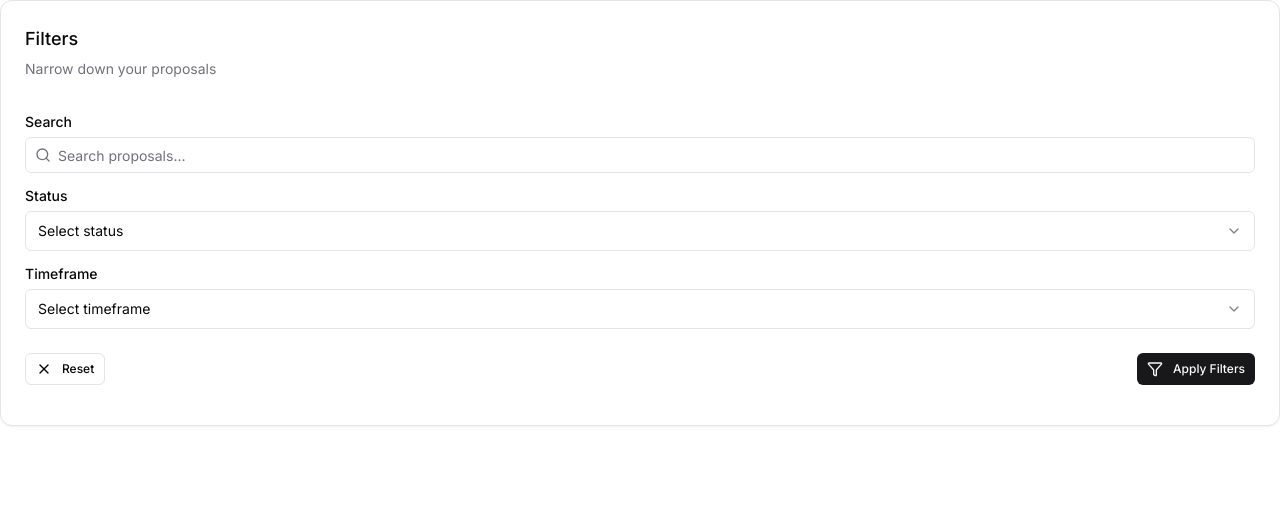
Scenario: DashboardFilters › removes individual filters when clicking the X button
# Add a search filter
Type "Test Query" into the field with placeholder "Search proposals..." at coordinates (640, 155), box [25, 137, 1255, 173]
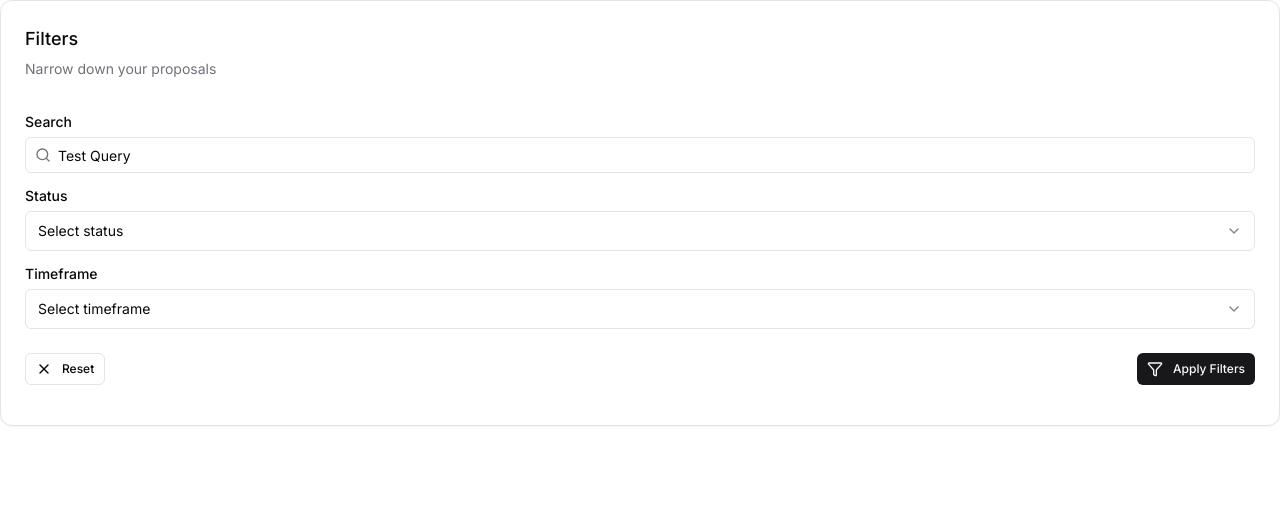
# Apply filters
Click the button "Apply Filters" at coordinates (1196, 369), box [1137, 353, 1255, 385]
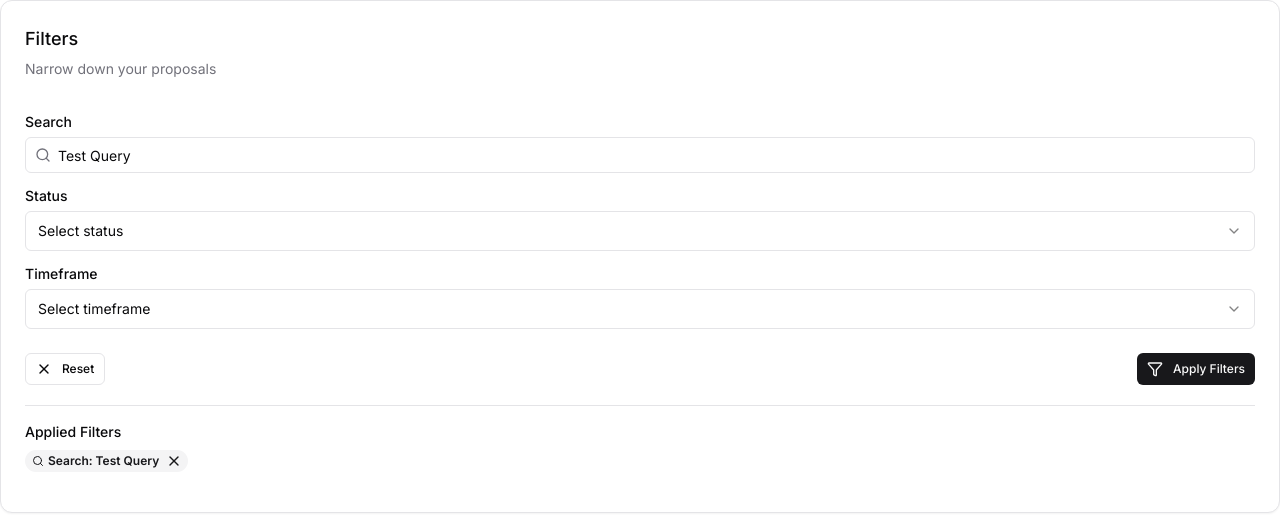
Now the text "Search: Test Query" is shown, box [48, 453, 159, 469]
Click the 3rd button at coordinates (174, 461), box [167, 454, 181, 468]
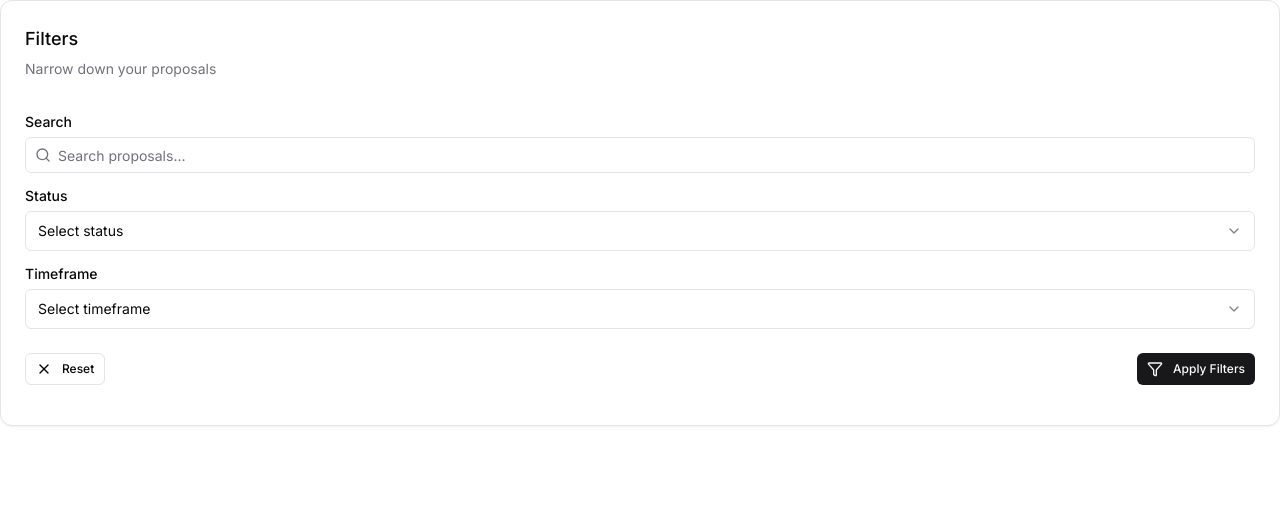
Now the text "Search: Test Query" is gone
